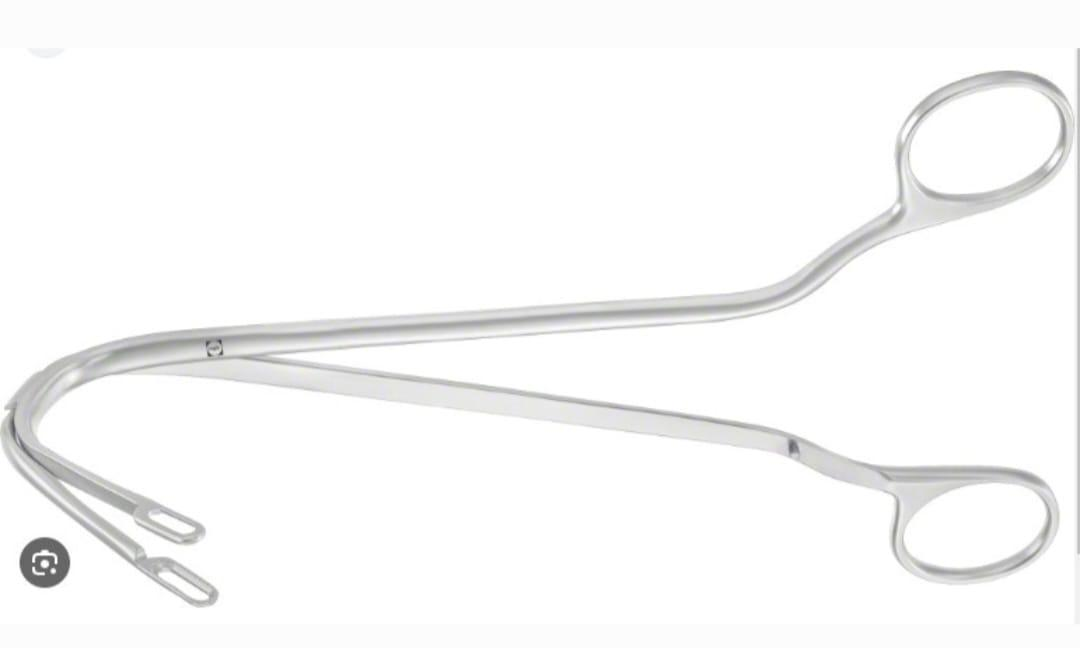Randall Forceps: (0, 65, 1067, 612)
